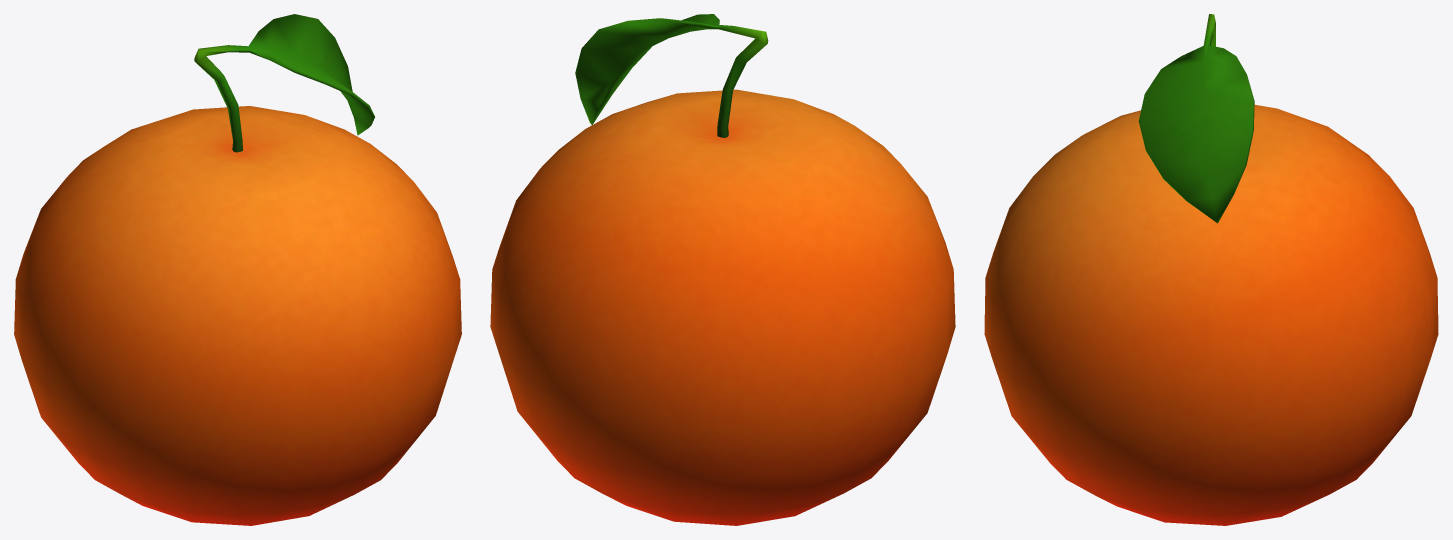
Rendered from orange-v1-transformed.glb.
3 views of the same model, side by side, from view 1: azimuth 30°, elevation 25°; view 2: azimuth 150°, elevation 25°; view 3: azimuth 270°, elevation 25° (orthographic). The views are drawn at different scales.
Visible parts, largest first — view 1: orange; view 2: orange; view 3: orange.
Boxes of the visible parts, left/top/right/bottom form: orange: left=14, top=14, right=461, bottom=525; orange: left=490, top=14, right=955, bottom=525; orange: left=984, top=14, right=1438, bottom=525.
Size of the model in its own units: 24.22 by 27.16 by 24.22.
1 material, 1 textured.
